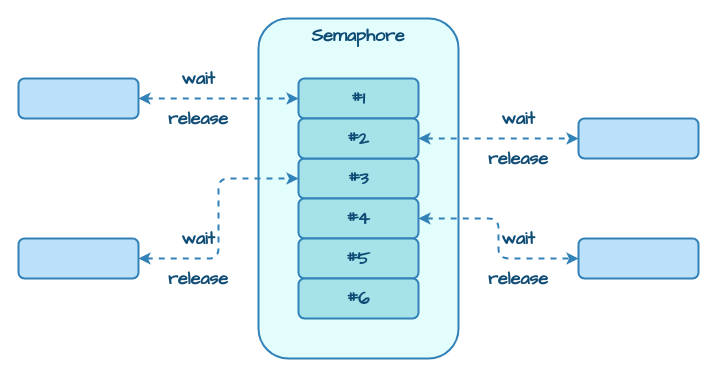
The diagram is 716 pixels wide and 376 high, and some of its shapes have lost their labels. Here are the shapes that lost their labels. From the top down, the centre of each, then its label:
the point at 78,98: thread t1
the point at 638,138: thread t2
the point at 78,258: thread t3
the point at 638,258: thread t4
